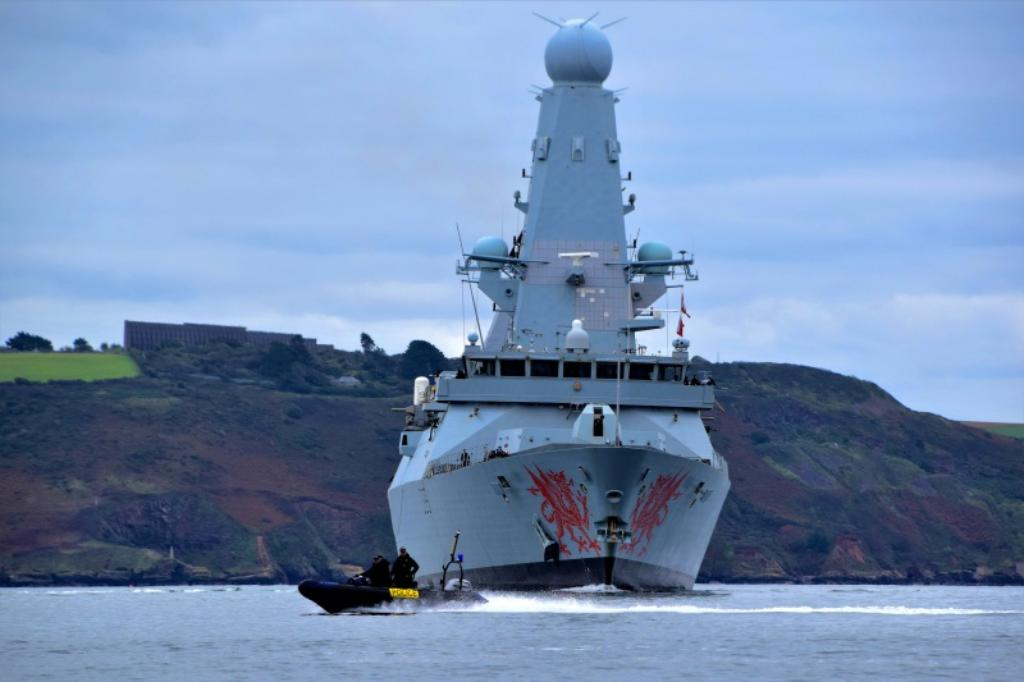Warship: (390, 11, 736, 597)
